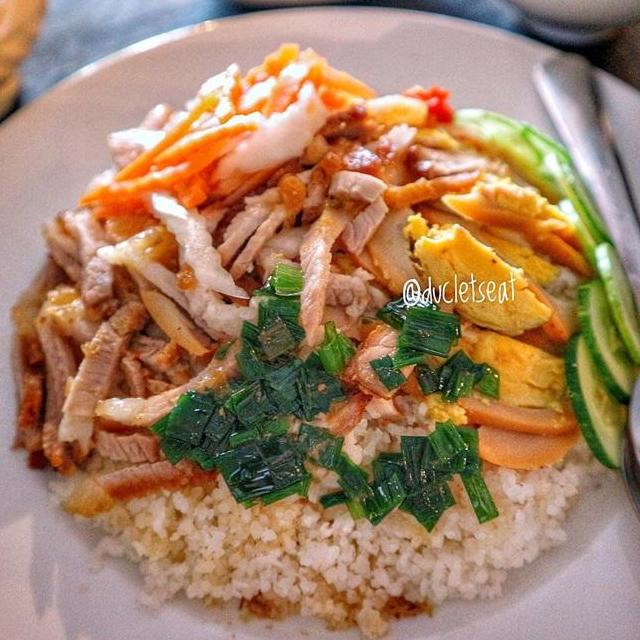com: (237, 394, 453, 639), (412, 449, 604, 606), (94, 466, 273, 615)
com suon trung: (0, 28, 640, 640)
dua chua: (75, 33, 385, 225)
suon: (205, 117, 426, 362), (5, 199, 175, 468)
trung: (395, 171, 600, 474)
